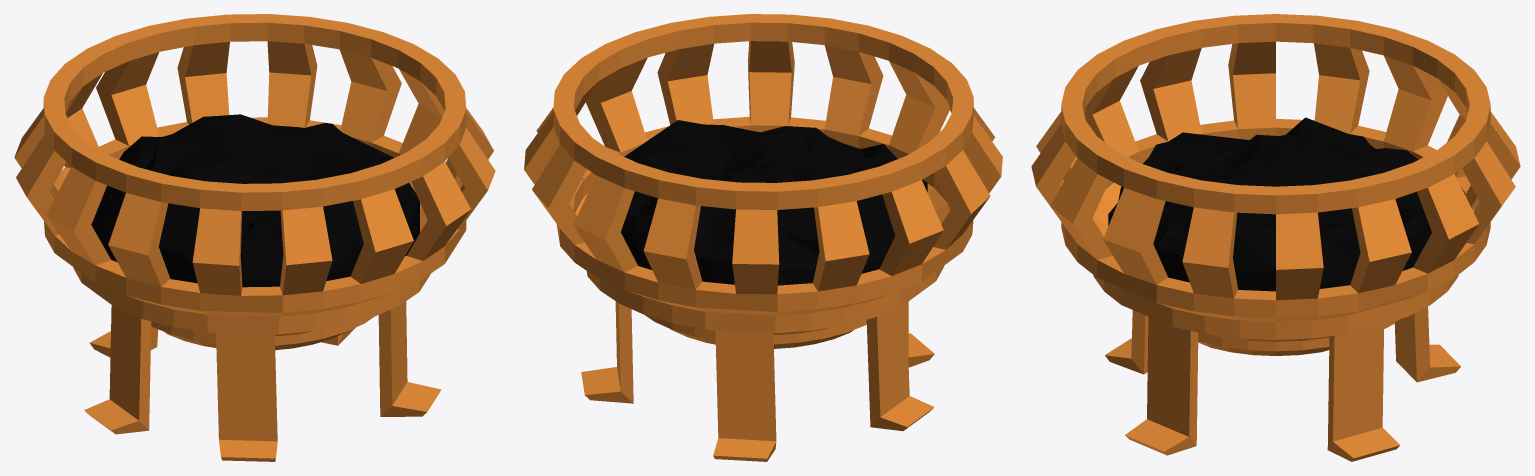
The model's file is GranPira.fbx.
3 views of the same model, side by side, from view 1: azimuth 30°, elevation 25°; view 2: azimuth 150°, elevation 25°; view 3: azimuth 270°, elevation 25° (orthographic).
Visible parts, largest first — view 1: GranPira, Carbon; view 2: GranPira, Carbon; view 3: GranPira, Carbon.
Boxes of the visible parts, bbox=[...] form: GranPira: bbox=[14, 14, 495, 461]; Carbon: bbox=[91, 114, 419, 287]; GranPira: bbox=[524, 14, 1002, 461]; Carbon: bbox=[621, 120, 927, 285]; GranPira: bbox=[1031, 14, 1520, 461]; Carbon: bbox=[1108, 117, 1431, 291].
Bounding box in the file's own units: 24.79 × 16.31 × 24.79.
